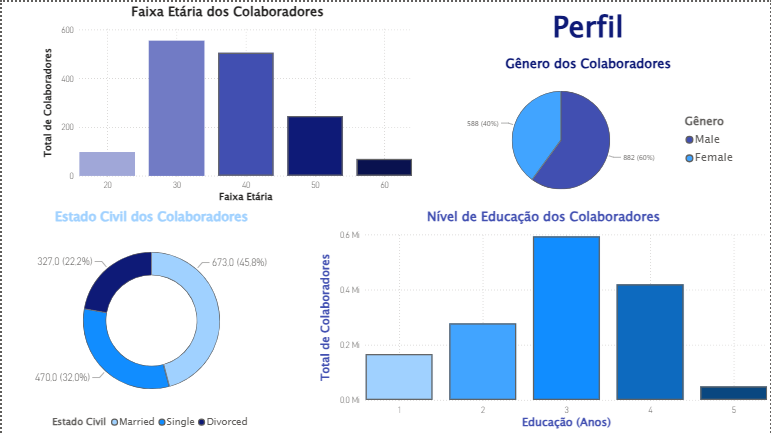

This screenshot's page, from the dashboard's own definition file:
{"tool":"powerbi","page":{"name":"Perfil dos Colaboradores","canvas":[1280,720],"ordinal":1},"visuals":[{"type":"clusteredColumnChart","title":"Faixa Etária dos Colaboradores","fields":{"Category":["RH.Faixa"],"Y":["Medidas.Total de Funcionarios"]},"box":[63.4,0,625,341.6],"z":0},{"type":"clusteredColumnChart","title":"Nível de Educação dos Colaboradores","fields":{"Category":["RH.Education"],"Y":["Sum(RH.EmployeeNumber)"]},"box":[524.7,341.6,755.3,378.5],"z":1000},{"type":"donutChart","title":"Estado Civil dos Colaboradores","fields":{"Category":["RH.MaritalStatus"],"Y":["Medidas.Total de Funcionarios"]},"box":[0,341.6,498.3,378.5],"z":2000},{"type":"pieChart","title":"Gênero dos Colaboradores","fields":{"Category":["RH.Gender"],"Y":["Sum(RH.EmployeeCount)"]},"box":[720.1,86.3,514.1,255.3],"z":3000},{"type":"textbox","box":[801.1,0,350.4,86.3],"z":4000}]}

Visuals, with their boxes in screenshot pixels (x1, y1, x2, y2), scaled from the page's 1280x720 canvas onto the 771x434 screenshot:
"Faixa Etária dos Colaboradores" clusteredColumnChart: box(38, 0, 415, 206)
"Nível de Educação dos Colaboradores" clusteredColumnChart: box(316, 206, 770, 433)
"Estado Civil dos Colaboradores" donutChart: box(0, 206, 300, 433)
"Gênero dos Colaboradores" pieChart: box(434, 52, 743, 206)
textbox: box(483, 0, 694, 52)
